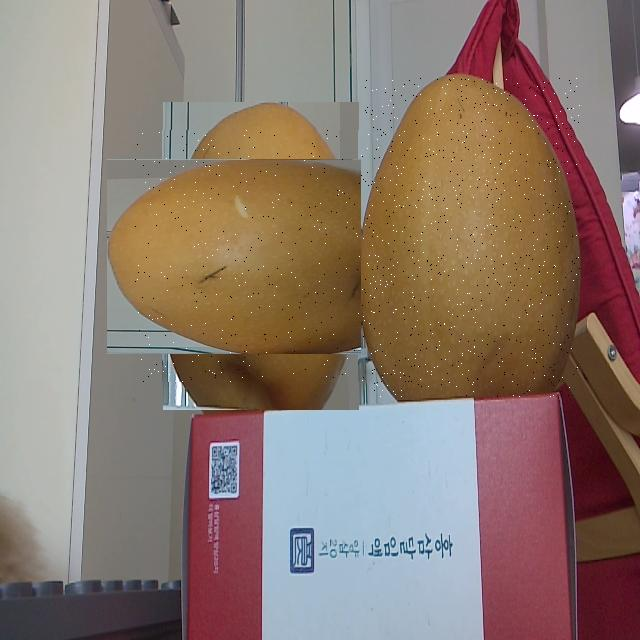pear: (362, 78, 580, 397), (136, 130, 388, 382)
